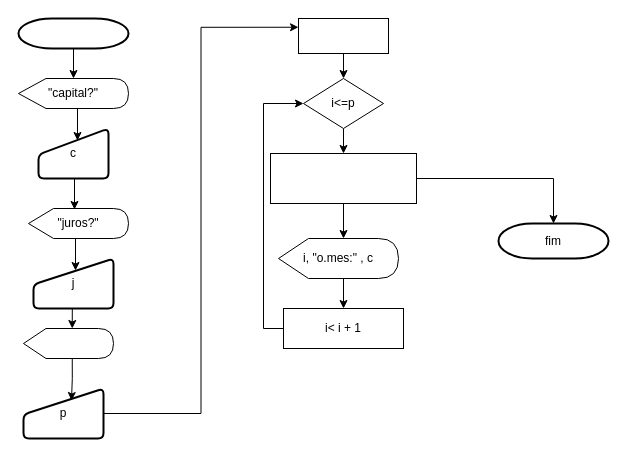
Some shapes in this 626 by 456 pixel diagram are drawn without their labels. Here are the shapes that lost their labels. From the top down, the centre of each, then its label:
pixel 73 33: inicio
pixel 343 36: i<1
pixel 343 178: c<(1+j/100)*c
pixel 68 343: "periodo"
